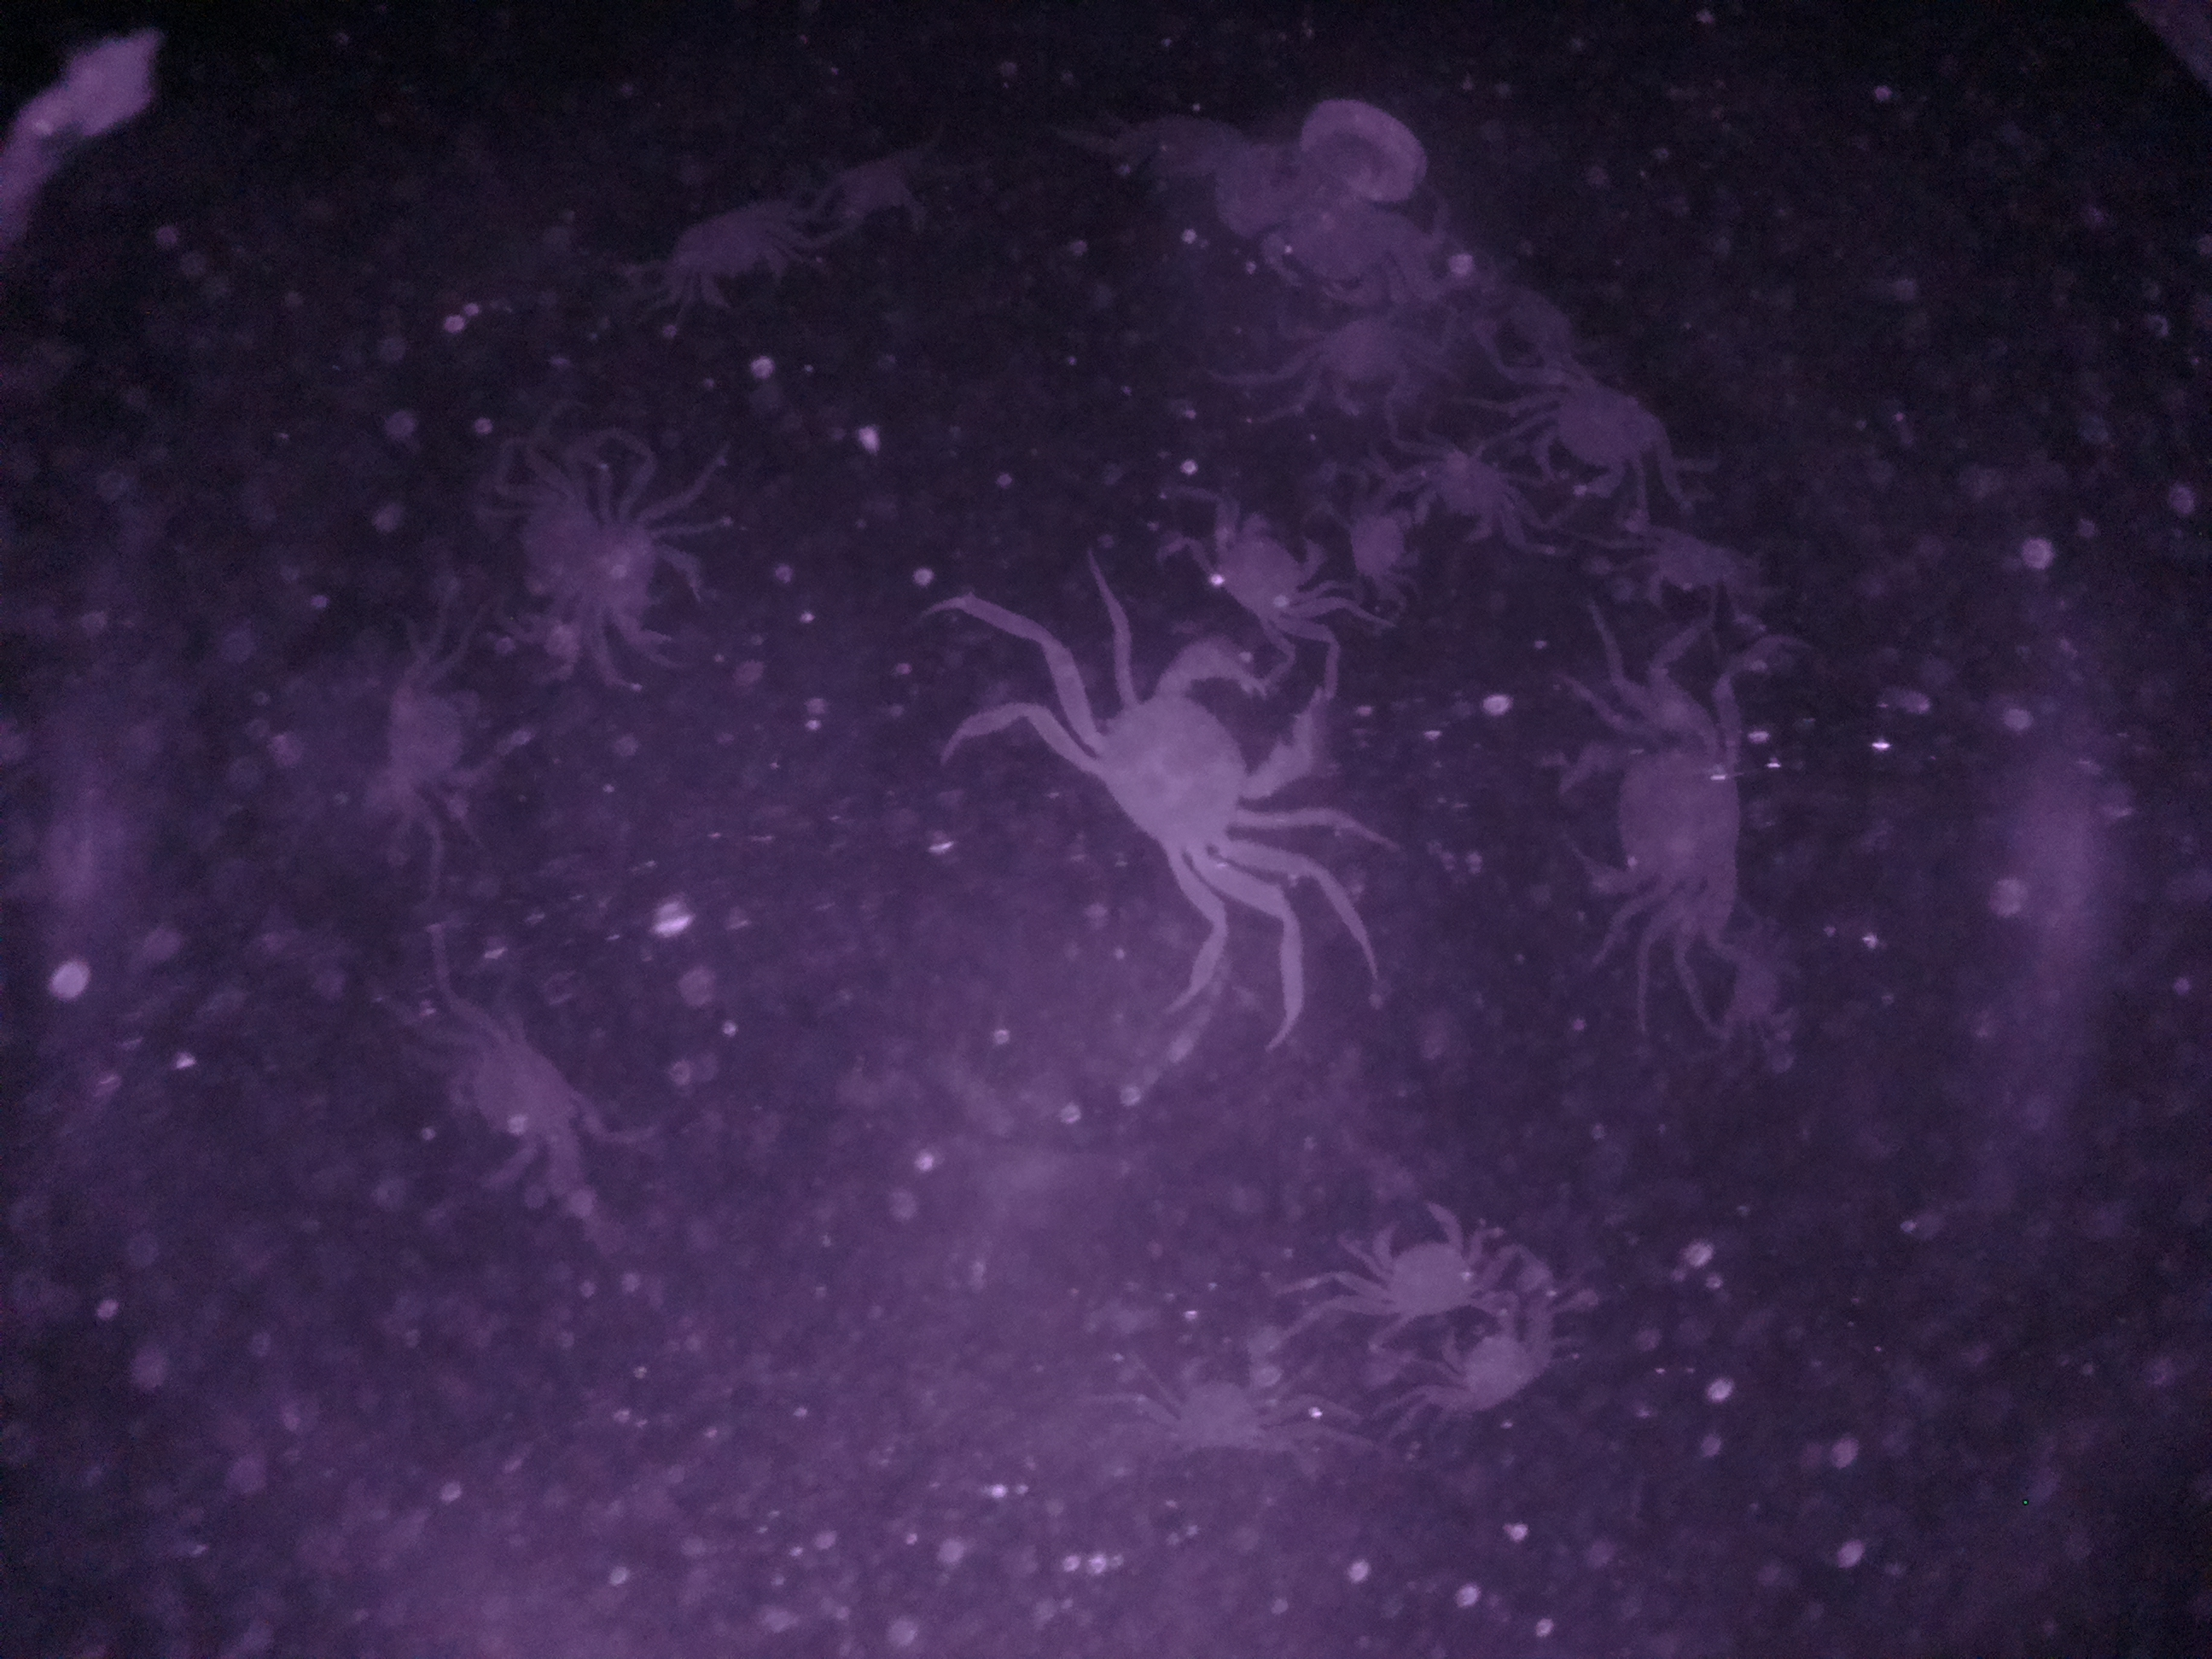Crab: (1031, 638, 1329, 913), (1548, 695, 1752, 953), (1179, 476, 1341, 653), (1327, 1202, 1524, 1333), (658, 188, 819, 336), (1521, 361, 1684, 502)
